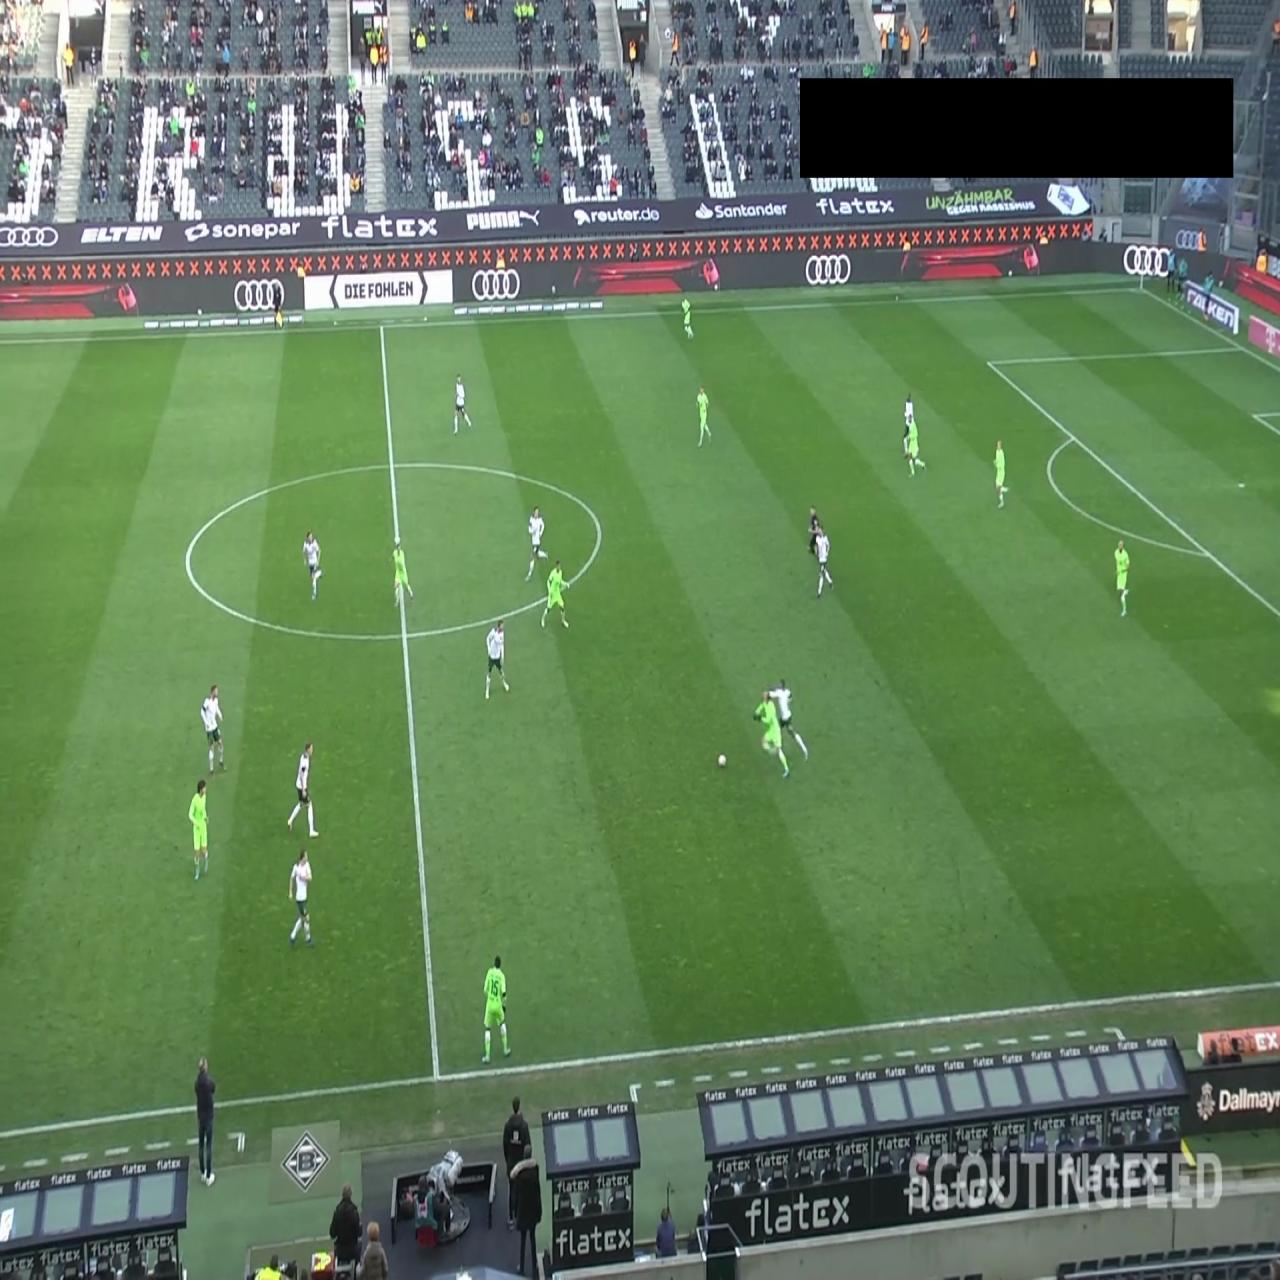ball: (717, 754, 727, 768)
player: (769, 678, 808, 767), (753, 687, 790, 779), (481, 954, 512, 1063), (287, 741, 320, 838), (289, 849, 314, 948), (200, 684, 226, 775), (540, 558, 570, 630), (486, 617, 512, 699), (188, 779, 208, 880), (813, 525, 836, 600), (525, 505, 547, 583), (392, 536, 414, 607), (302, 530, 323, 601), (903, 416, 926, 478), (1114, 538, 1130, 618), (453, 373, 472, 433), (902, 394, 919, 459), (696, 383, 712, 447), (994, 438, 1006, 509), (680, 292, 695, 342)
referee: (806, 506, 824, 568), (272, 280, 285, 332)
